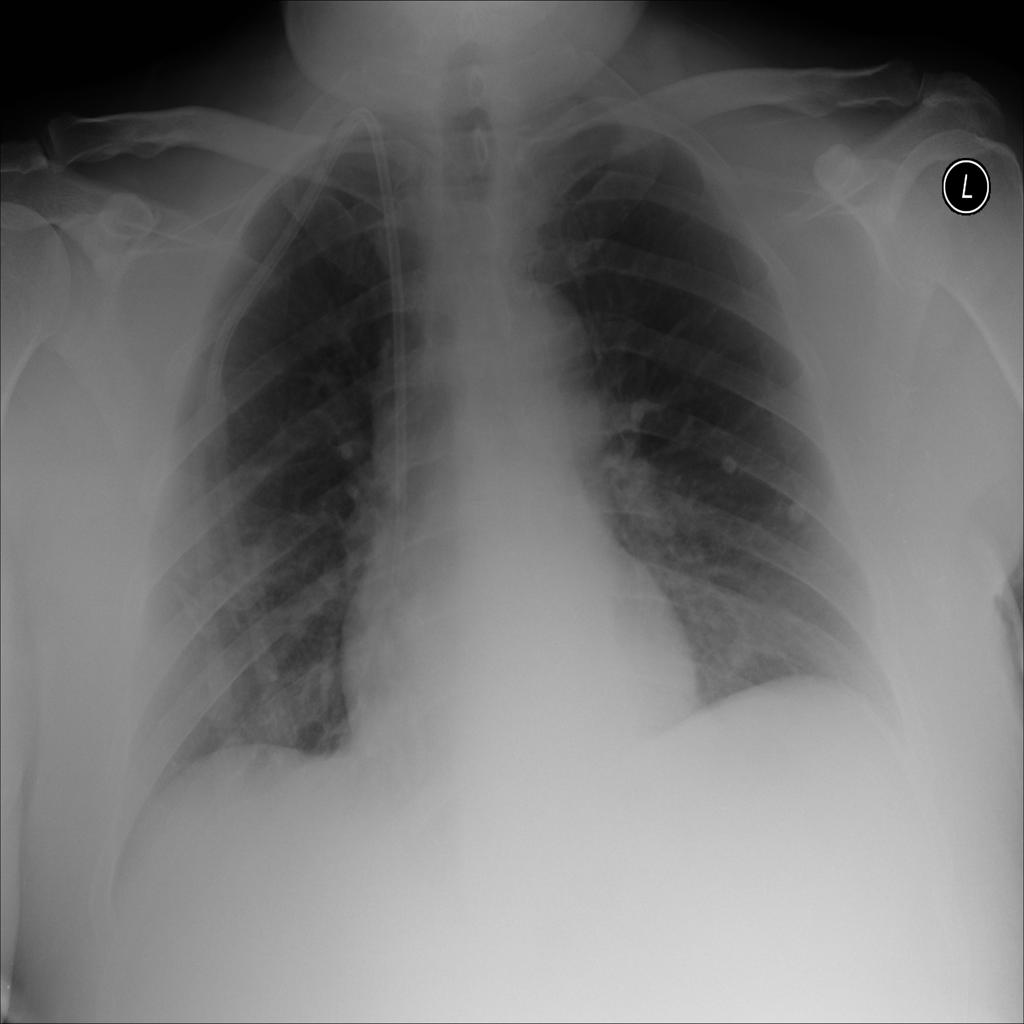nodule: (763, 470, 833, 545), (705, 620, 782, 687), (706, 435, 754, 489)
